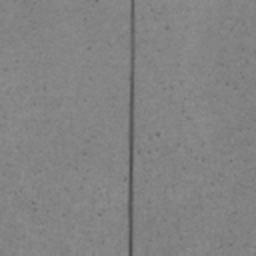Scratches: (127, 0, 135, 256)
